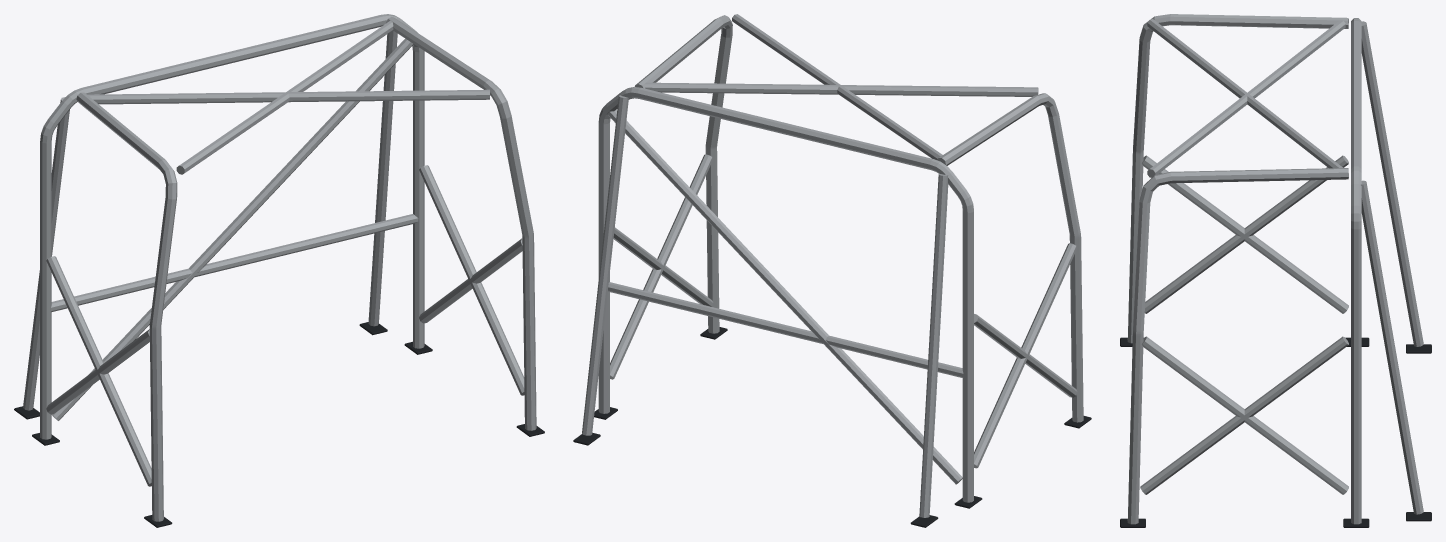
Rendered from ridgeback_4x4.glb.
The picture shows the model from 3 angles, left to right: view 1: azimuth 30°, elevation 25°; view 2: azimuth 150°, elevation 25°; view 3: azimuth 270°, elevation 25°; orthographic projection. The views are drawn at different scales.
Visible parts, largest first — view 1: model; view 2: model; view 3: model.
Boxes of the visible parts, x1,y1,x2,y2 form: model: [14, 14, 544, 527]; model: [573, 14, 1091, 527]; model: [1120, 14, 1431, 527].
Bounding box in the file's own units: 1.72 × 1.44 × 1.2.
2 materials, 1 textured.
